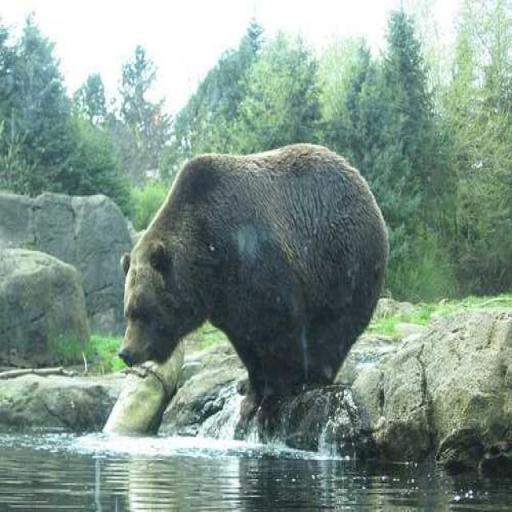Bear: (118, 140, 389, 430)
